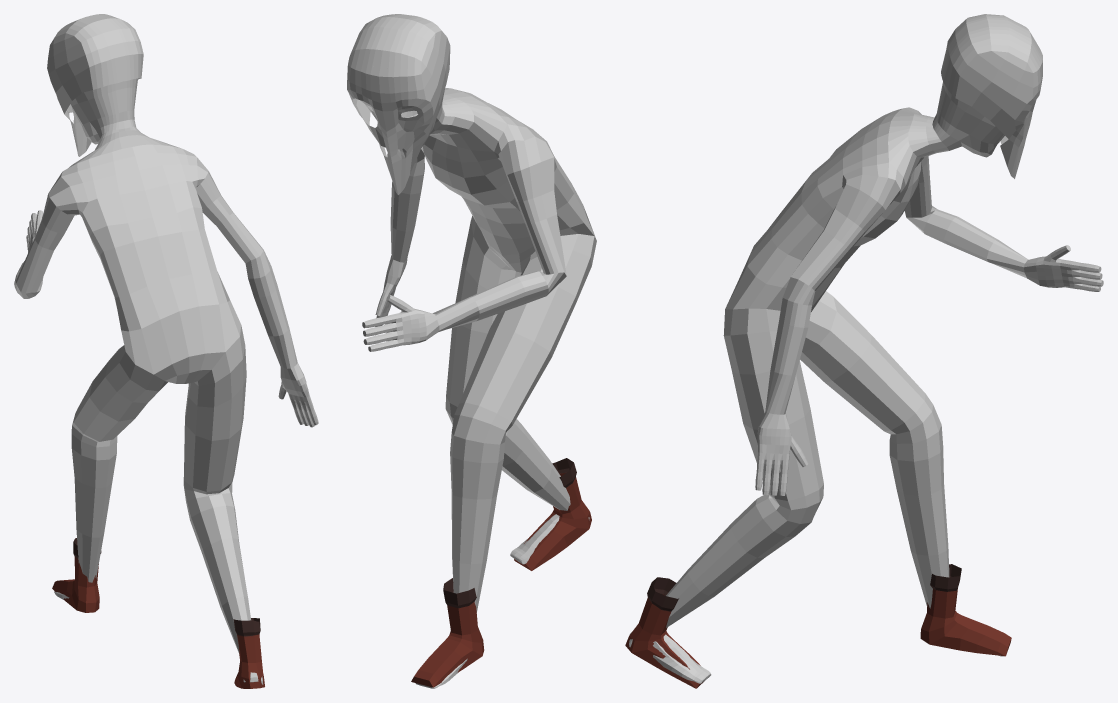
Rendered from saltoadelante_000152.obj.
The picture shows the model from 3 angles, left to right: view 1: azimuth 30°, elevation 25°; view 2: azimuth 150°, elevation 25°; view 3: azimuth 270°, elevation 25°; orthographic projection. The views are drawn at different scales.
Visible parts, largest first — view 1: Plane.002_Plane.001, Plane.003, Plane.004; view 2: Plane.002_Plane.001, Plane.004, Plane.003; view 3: Plane.002_Plane.001, Plane.004, Plane.003.
Boxes of the visible parts, x1,y1,x2,y2 form: Plane.002_Plane.001: (14, 14, 318, 684); Plane.003: (233, 618, 264, 688); Plane.004: (52, 538, 101, 612); Plane.002_Plane.001: (347, 14, 596, 688); Plane.004: (411, 578, 484, 687); Plane.003: (514, 458, 591, 570); Plane.002_Plane.001: (629, 14, 1103, 683); Plane.004: (920, 564, 1011, 656); Plane.003: (625, 577, 704, 688).
Bounding box in the file's own units: 2.5 × 5.98 × 3.99.
